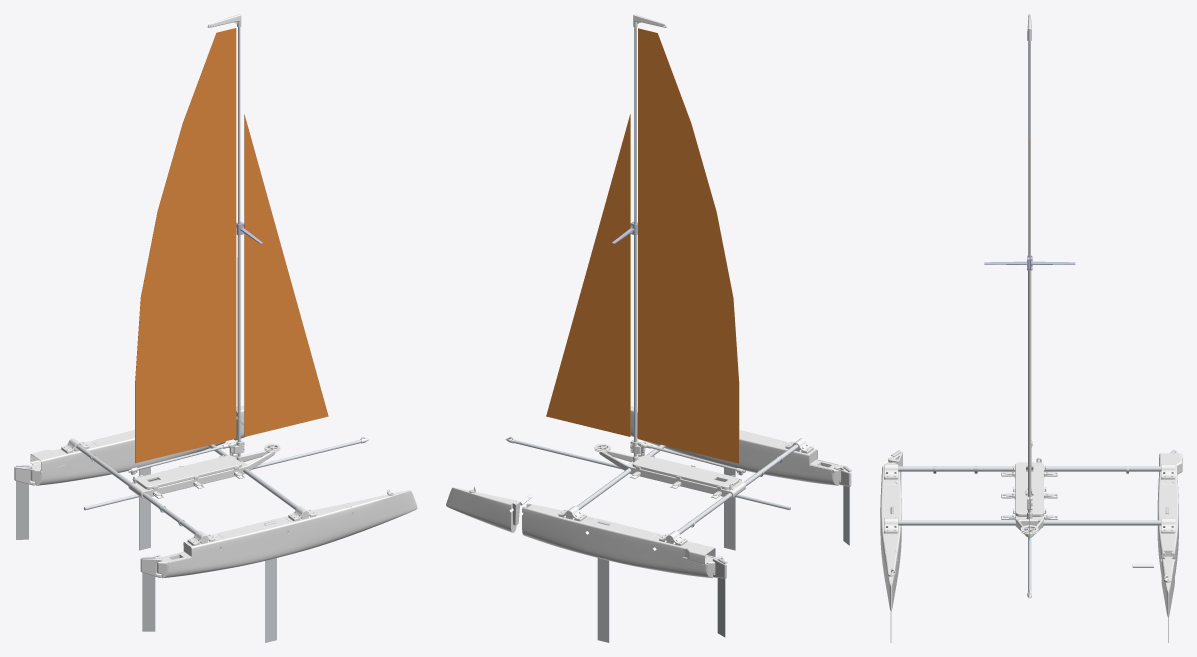
Rendered from com-tu-2.glb.
3 renders of one model, left to right at view 1: azimuth 30°, elevation 25°; view 2: azimuth 150°, elevation 25°; view 3: azimuth 270°, elevation 25°, orthographic. The views are drawn at different scales.
Parts seen in each view (by area): view 1: Major-1, floc-1, Centre Popa-1, Centre Proa MK4-1, Proa-1, Popa-1, Centre Popa-3, Popa-3, Pieza1^BARCU SENCER-2, Tapa Caixa Popa-1, Pal inferior-1, Pieza2^BARCU SENCER-1 (+9 smaller); view 2: Major-1, floc-1, Centre Popa-3, Centre Proa MK4-3, Proa-3, Centre Popa-1, Popa-1, Popa-3, Pieza1^BARCU SENCER-1, Tapa Caixa Popa-1, Pal inferior-1, Mitja Caixa Pal-1 (+6 smaller); view 3: Barra transversal-2, Barra transversal-1, Pal inferior-1, Tapa Caixa Popa-1, Centre Popa-3, Centre Popa-1, Centre Proa MK4-3, Centre Proa MK4-1, Pal superior-1, Proa-1, Proa-3, Tapa Caixa Pal-2 (+1 smaller).
Boxes of the visible parts, x1,y1,x2,y2 form: Major-1: (135,28,236,463); floc-1: (244,114,328,436); Centre Popa-1: (212,518,290,570); Centre Proa MK4-1: (279,503,352,555); Proa-1: (343,490,417,534); Popa-1: (156,534,223,578); Centre Popa-3: (86,430,160,477); Popa-3: (30,442,96,485); Pieza1^BARCU SENCER-2: (264,520,276,642); Tapa Caixa Popa-1: (175,455,241,479); Pal inferior-1: (237,235,240,456); Pieza2^BARCU SENCER-1: (142,557,155,631); Major-1: (638,28,739,463); floc-1: (546,114,630,436); Centre Popa-3: (584,518,662,570); Centre Proa MK4-3: (522,503,595,555); Proa-3: (446,487,520,532); Centre Popa-1: (713,430,788,477); Popa-1: (777,442,840,485); Popa-3: (651,534,715,578); Pieza1^BARCU SENCER-1: (597,520,610,642); Tapa Caixa Popa-1: (632,455,699,480); Pal inferior-1: (634,235,637,456); Mitja Caixa Pal-1: (662,474,745,498); Barra transversal-2: (898,520,1161,525); Barra transversal-1: (898,466,1161,471); Pal inferior-1: (1028,270,1031,512); Tapa Caixa Popa-1: (1013,484,1046,516); Centre Popa-3: (1157,481,1178,540); Centre Popa-1: (880,481,901,541); Centre Proa MK4-3: (1158,517,1178,575); Centre Proa MK4-1: (880,517,901,577); Pal superior-1: (1028,41,1030,257); Proa-1: (884,550,897,611); Proa-3: (1161,556,1174,617); Tapa Caixa Pal-2: (1013,462,1046,483).
Size of the model in its own units: 1.03 by 1.95 by 0.8501.
